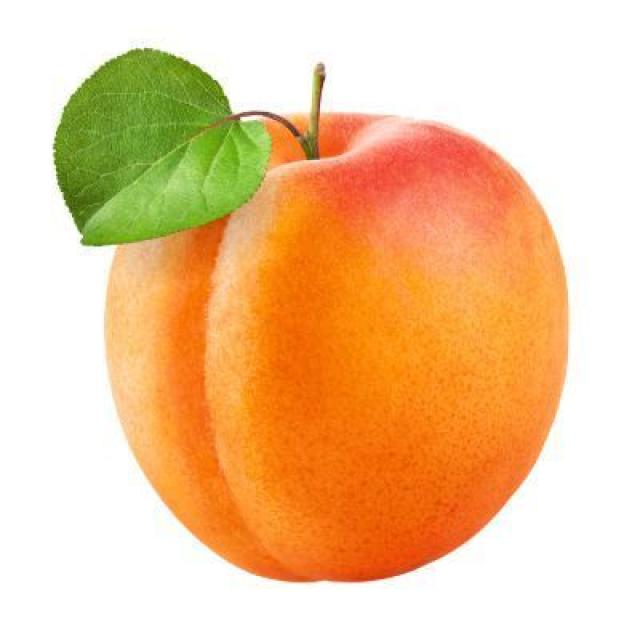kayisi: (102, 112, 571, 584)
kayisiyapragi: (56, 50, 264, 246)
